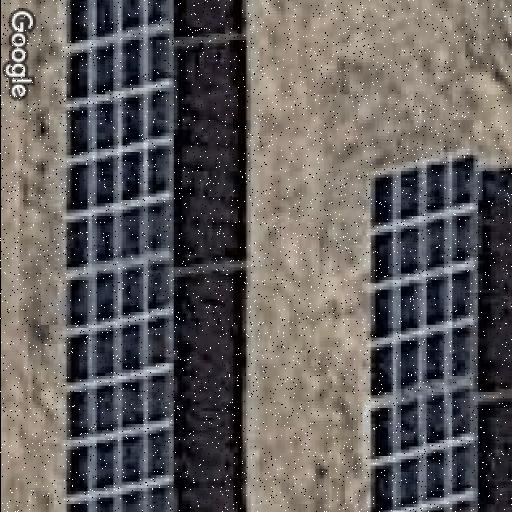solar-panel: (67, 0, 171, 512), (368, 150, 475, 512)
